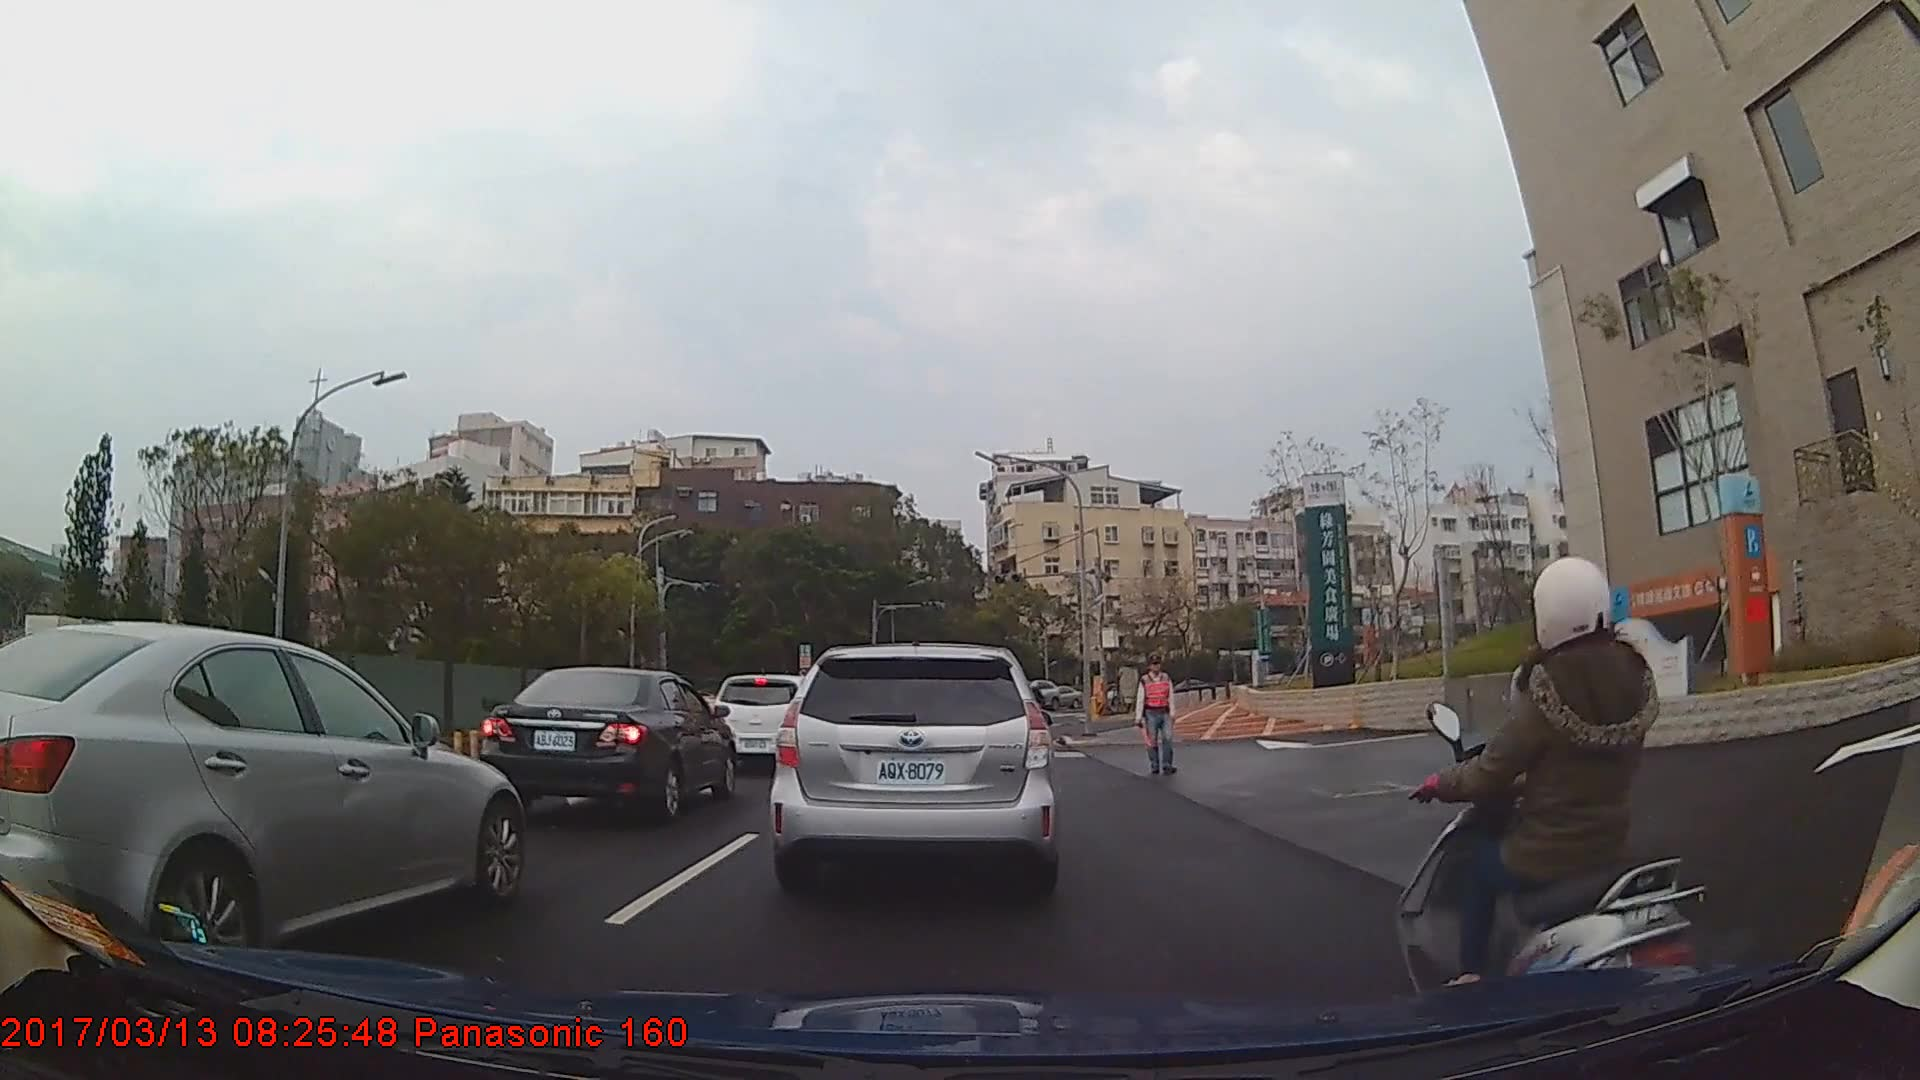pedestrian: (1138, 658, 1180, 780)
rider: (1399, 554, 1705, 1060)
vehicle: (0, 617, 523, 970), (768, 645, 1061, 900), (481, 667, 738, 824), (716, 675, 821, 764), (1043, 685, 1083, 714)
